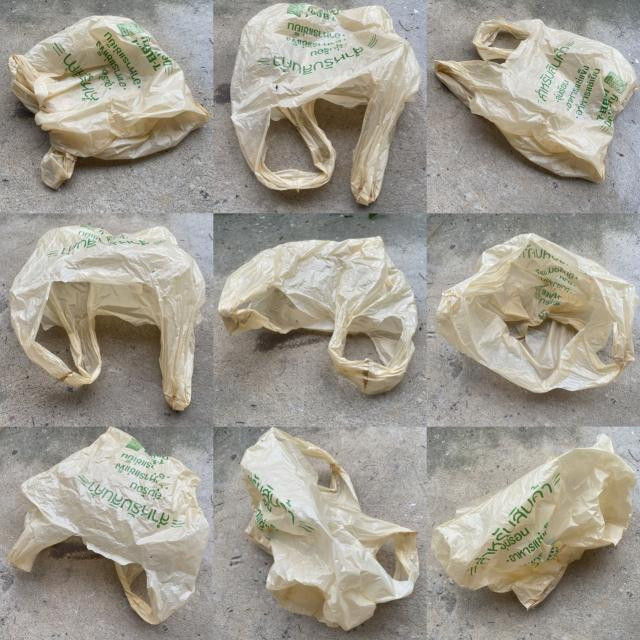Single-layer Plastic: (6, 428, 210, 624), (230, 4, 421, 204), (9, 225, 205, 410), (240, 428, 419, 630), (431, 435, 636, 609), (8, 16, 210, 189), (435, 18, 638, 182), (436, 234, 638, 392), (219, 236, 418, 393)
